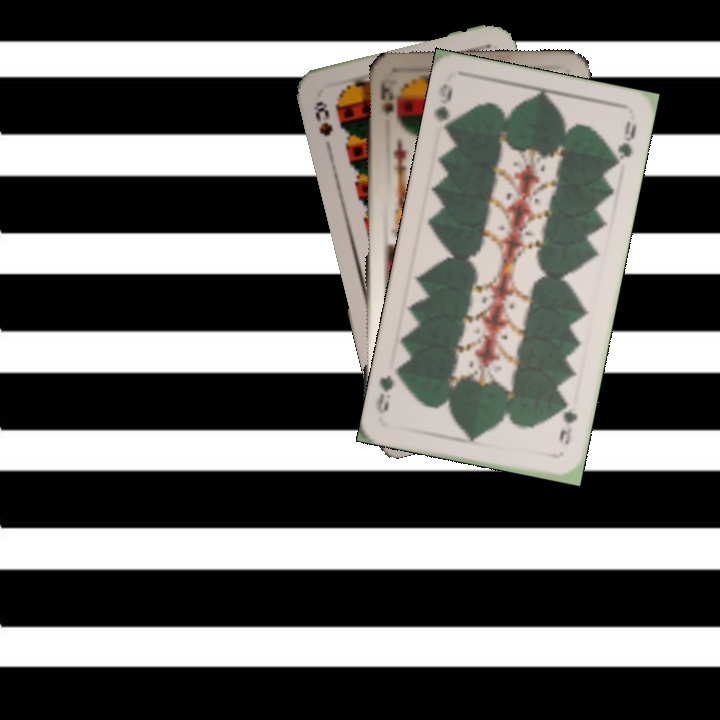G9: (429, 79, 456, 137), (555, 396, 580, 448)
S8: (309, 97, 336, 139)
SK: (376, 75, 396, 117)
